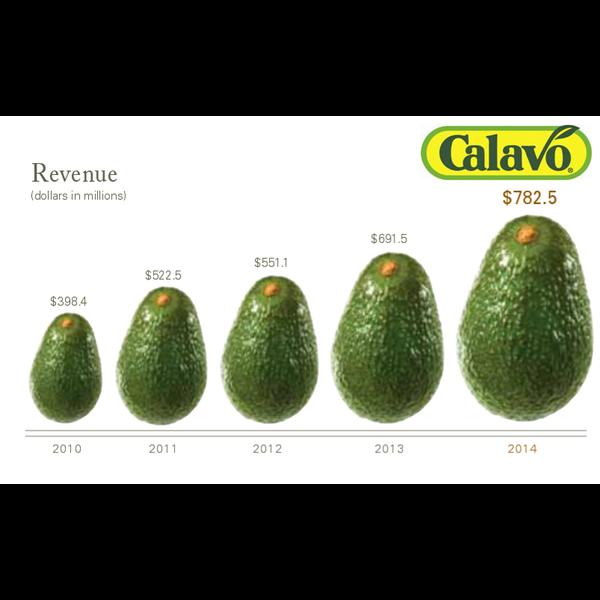unripe: (456, 216, 593, 421), (331, 253, 444, 423), (220, 276, 318, 423), (115, 287, 207, 425), (31, 313, 102, 423)
